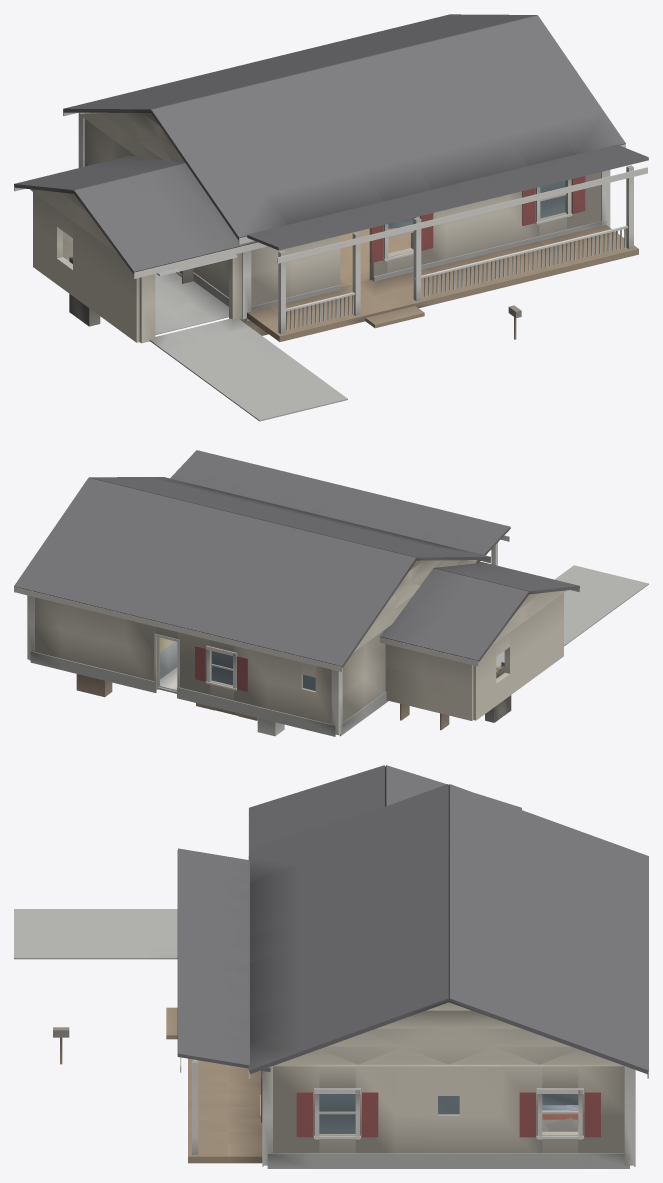
File: casa_us_1.glb
3 renders of one model, top to bottom at view 1: azimuth 30°, elevation 25°; view 2: azimuth 150°, elevation 25°; view 3: azimuth 270°, elevation 25°, orthographic. The views are drawn at different scales.
Visible parts, largest first — view 1: longe, ext, dentro, detalhe; view 2: longe, ext, detalhe, dentro, guarda_roupa_quarto24, despensa_garagem2; view 3: longe, ext, detalhe.
Boxes of the visible parts, <box> form: longe: <box>14,14,648,421</box>; ext: <box>30,112,610,343</box>; dentro: <box>65,112,411,334</box>; detalhe: <box>156,176,585,339</box>; longe: <box>14,450,648,671</box>; ext: <box>27,560,566,736</box>; detalhe: <box>154,633,449,730</box>; dentro: <box>158,637,504,693</box>; guarda_roupa_quarto24: <box>76,674,112,697</box>; despensa_garagem2: <box>485,662,511,722</box>; longe: <box>14,765,648,1163</box>; ext: <box>262,1002,635,1168</box>; detalhe: <box>53,1007,600,1139</box>.
Size of what is drawn, in the model's own units: 17.8 by 6.2 by 17.52.
